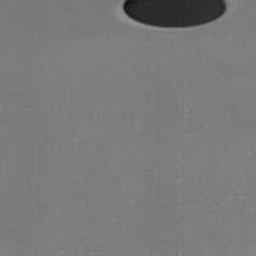Punching: (120, 0, 228, 29)
